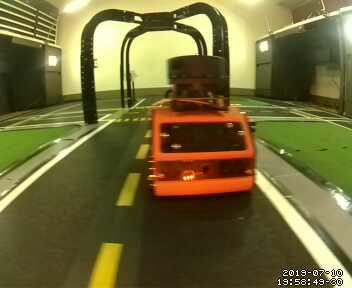pheeno: (150, 55, 258, 199)
